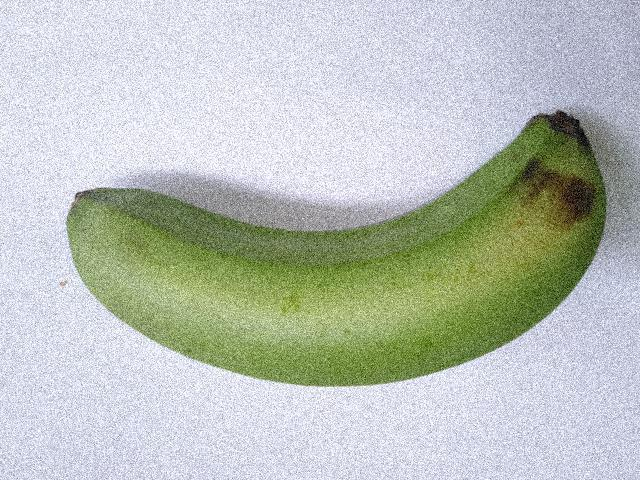freshunripe: (56, 98, 619, 398)
